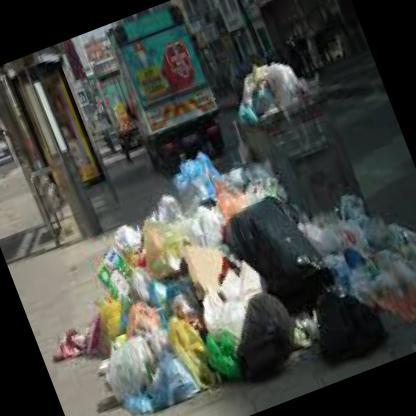Garbage: (113, 184, 280, 402), (56, 230, 214, 415), (165, 248, 319, 396), (160, 165, 286, 304), (297, 227, 415, 364), (283, 197, 390, 305)
